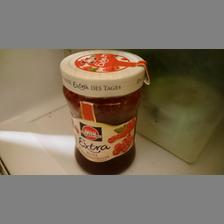Marmelade: (59, 49, 149, 173)
